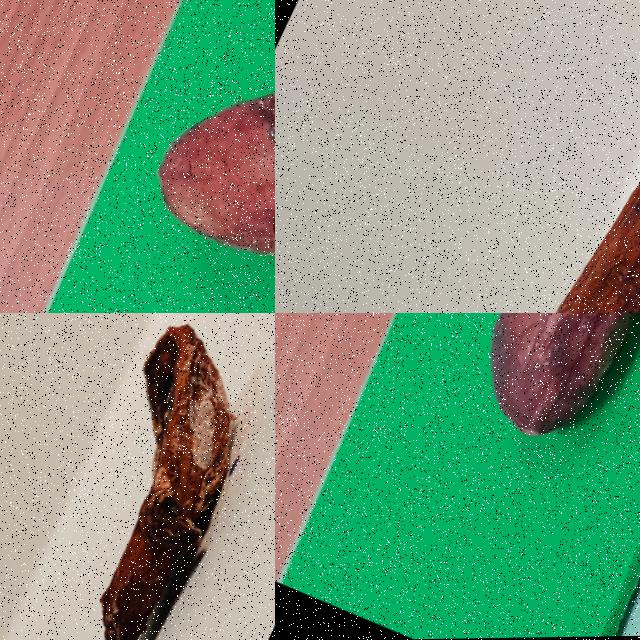Fine_cocoabeans: (348, 313, 639, 612), (63, 0, 274, 312), (439, 31, 639, 312)
Flat_cocoabeans: (0, 313, 274, 639)
